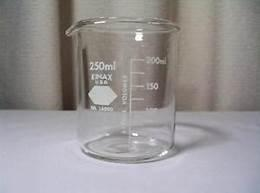Beaker: (57, 8, 180, 165)
